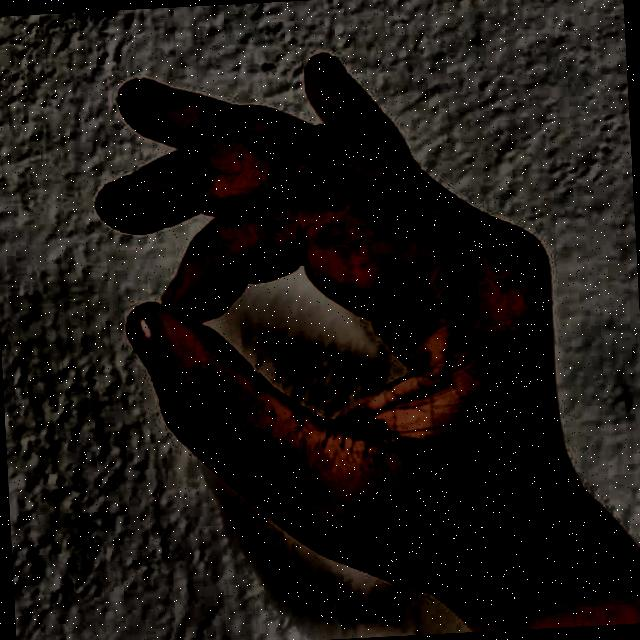Yo: (65, 16, 600, 636)
